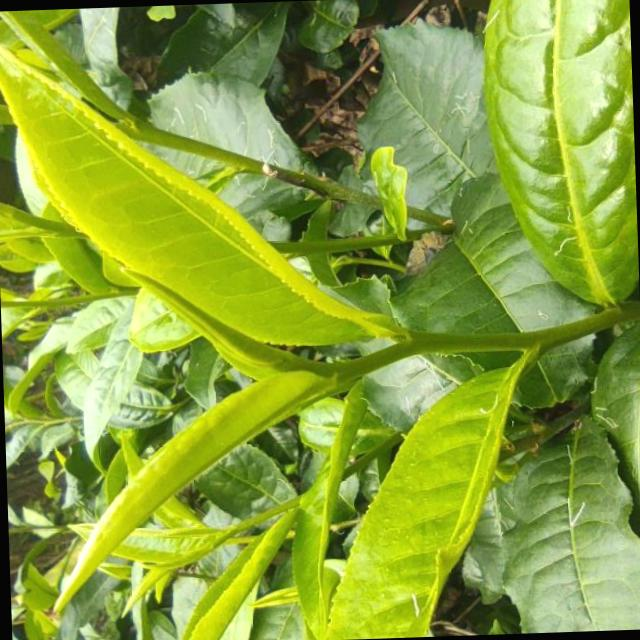Stem: (401, 332, 434, 356)
